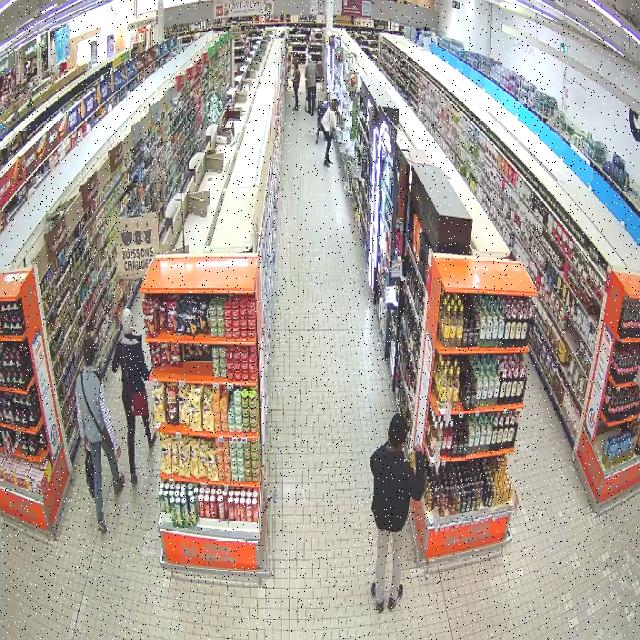article: (405, 449, 416, 469)
bags: (80, 373, 112, 446), (120, 343, 149, 415), (85, 449, 95, 498)
hands: (414, 439, 422, 454), (84, 437, 90, 450), (116, 447, 121, 458)
person: (370, 413, 425, 611), (76, 336, 125, 532), (111, 307, 155, 483)
